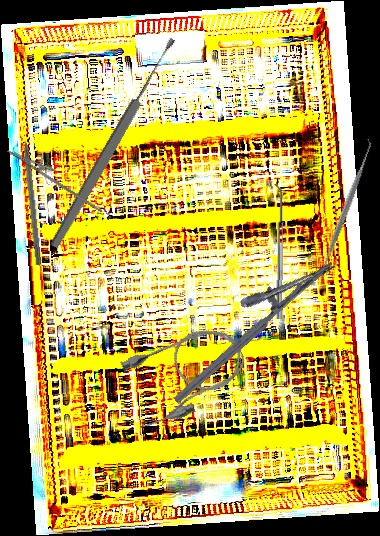Cannula: (112, 315, 257, 435)
Hook Surgical: (20, 124, 44, 266)
Needle Holder: (153, 238, 337, 406), (1, 141, 112, 214)
Spatula Surgical: (311, 137, 380, 281), (270, 183, 285, 320)
Surgical Spoon: (47, 36, 180, 250)
